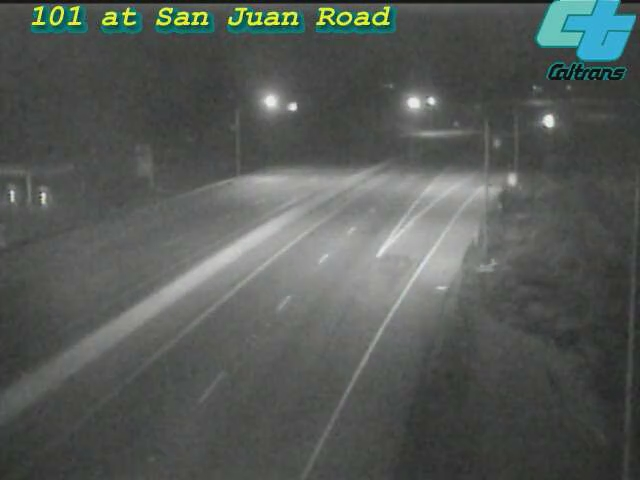vehicle: (525, 97, 575, 147)
